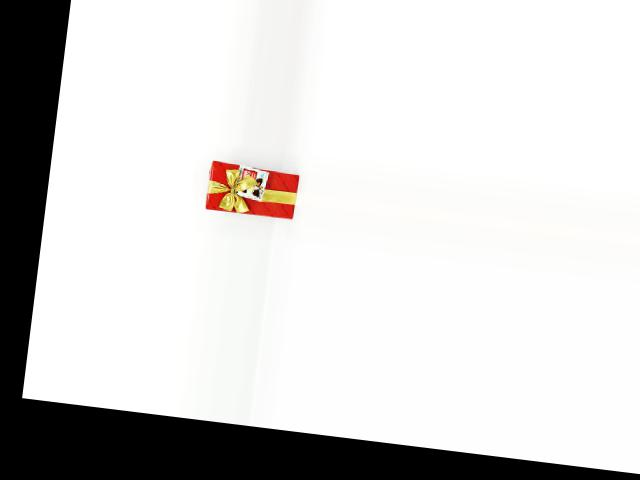chocolate: (201, 160, 298, 223)
